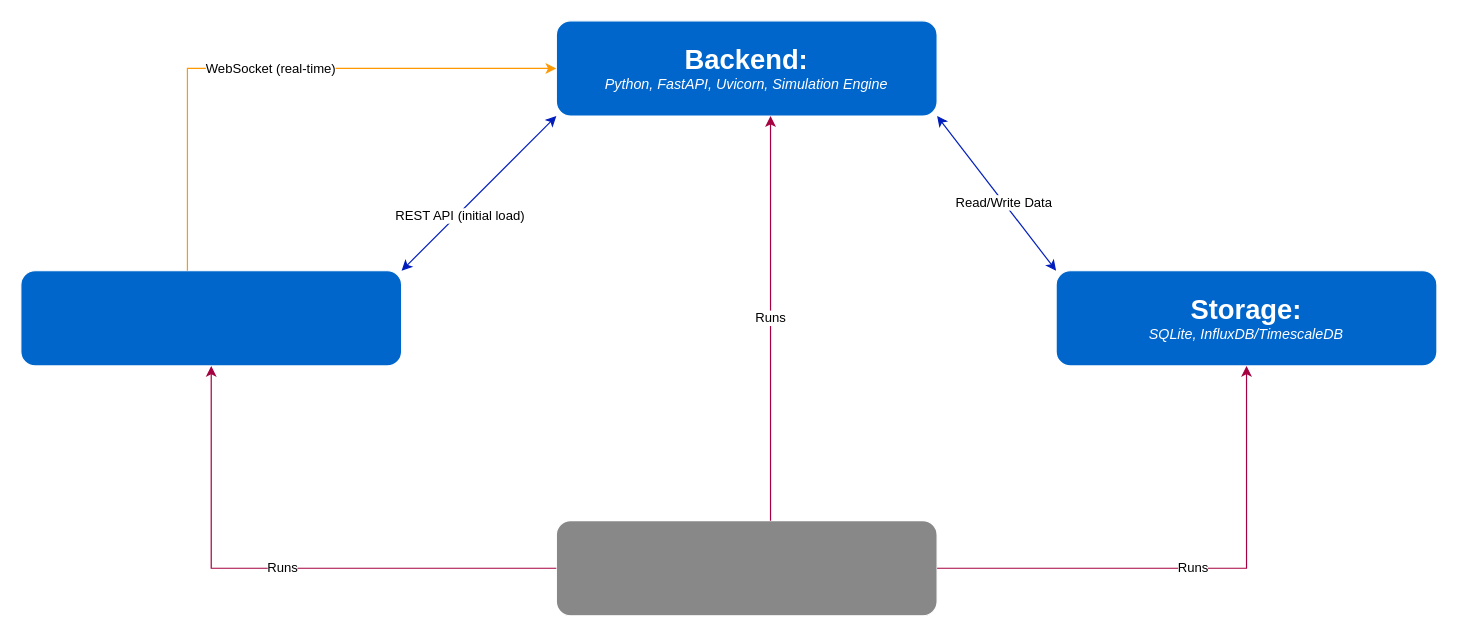
The diagram is 1458 pixels wide and 637 high, and some of its shapes have lost their labels. Here are the shapes that lost their labels. From the top down, the box of each, then its label:
(20, 270, 402, 366): Frontend: HTML, CSS, JS, Chart.js, WS Client
(555, 519, 937, 616): Containerization: Docker, Docker Compose
